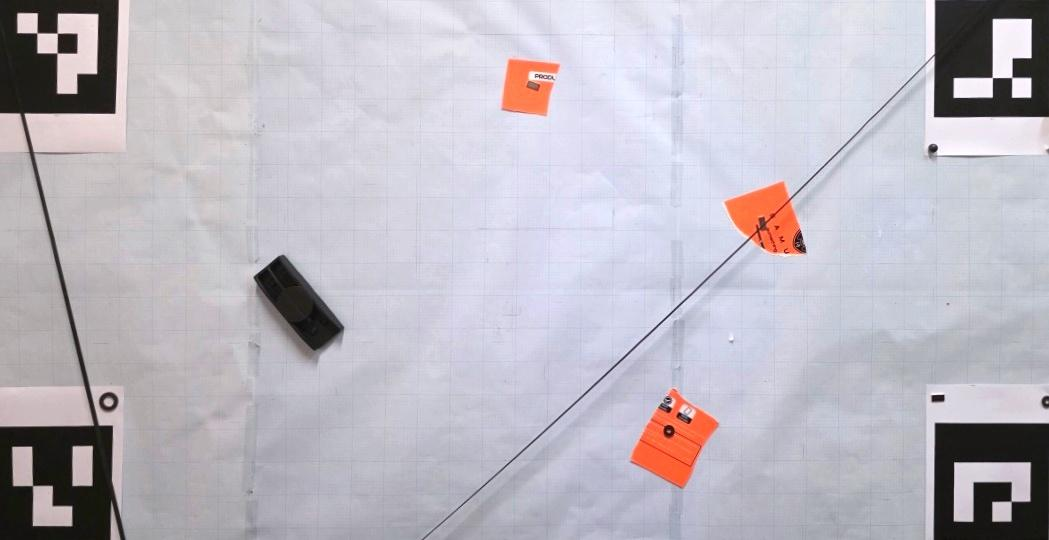obstacle: (630, 388, 720, 488), (254, 254, 345, 351), (723, 180, 807, 257), (501, 59, 561, 116)
